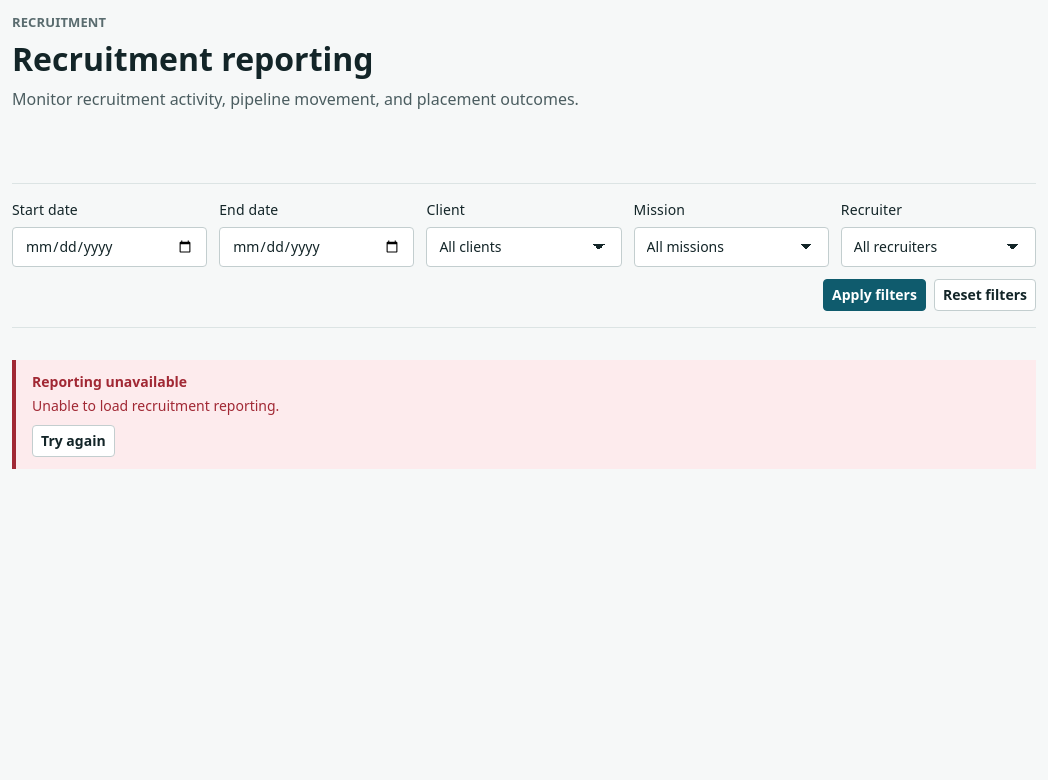
Test: recruitment reporting dashboard › shows a safe generic error with a retry that reruns the same load
The image size is (1048, 780).
Expected: the message shows "Unable to load recruitment reporting.", left=32, top=396, right=279, bottom=415
Expected: the message does not show "500", left=12, top=360, right=1036, bottom=469
Click the button "Try again": (73, 441) left=32, top=425, right=115, bottom=457
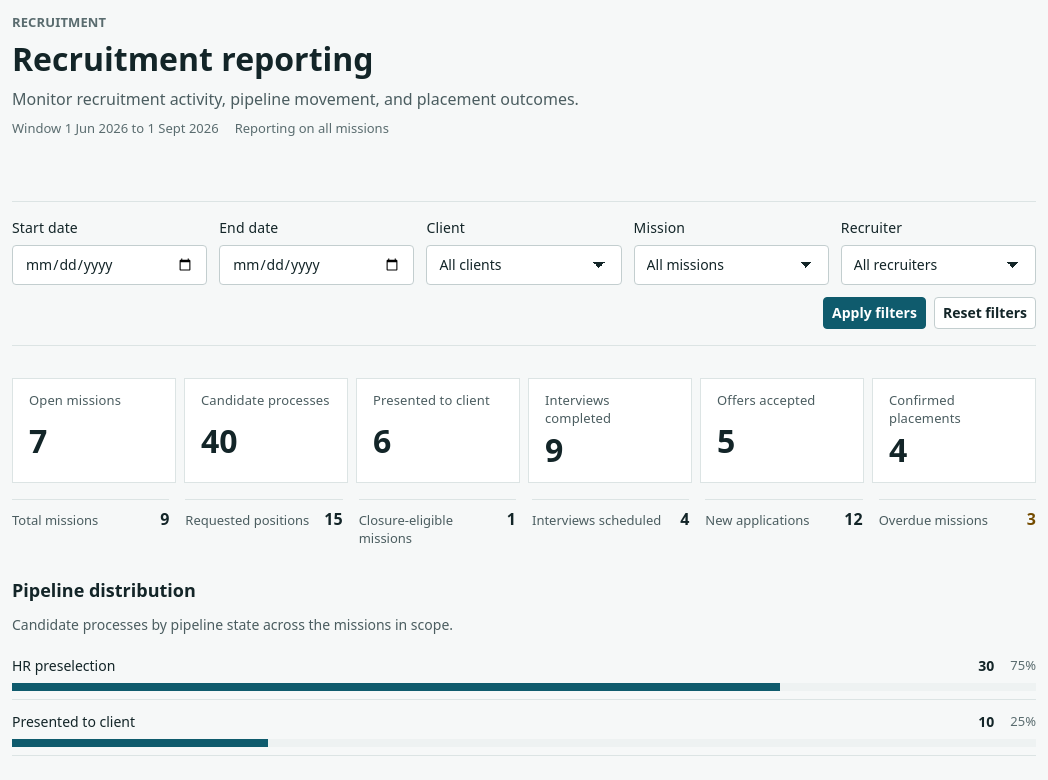
Expected: the text "Open missions" is shown, left=29, top=391, right=121, bottom=409
